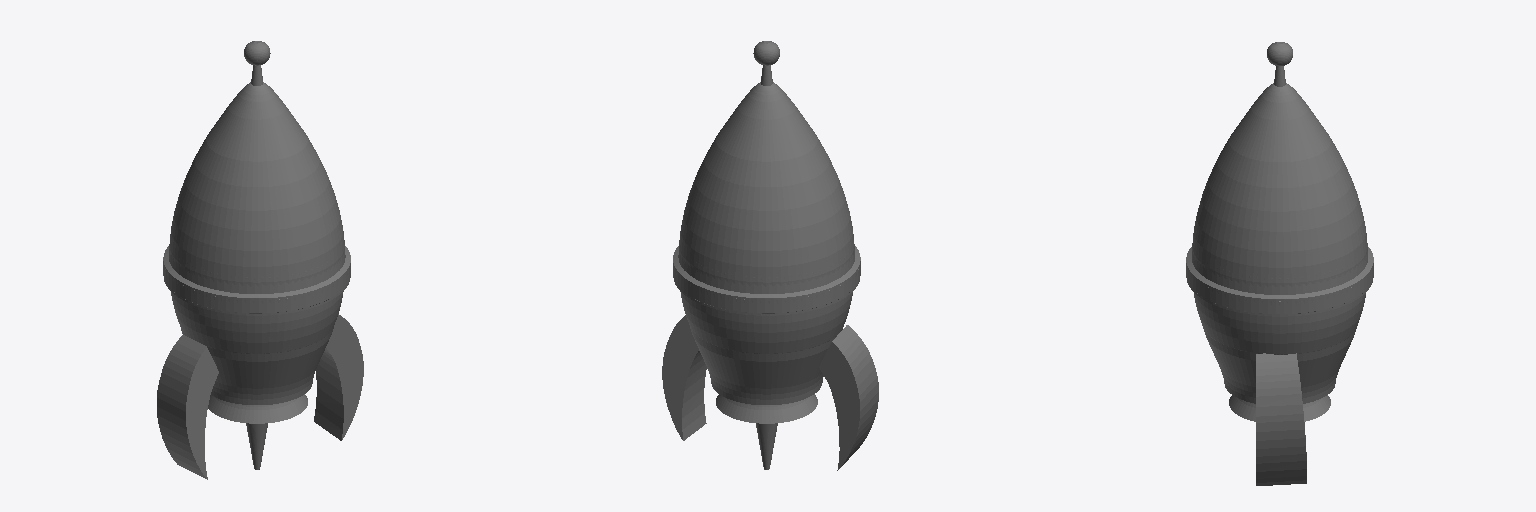
File: rocketShipAlpha.obj
3 views of the same model, side by side, from view 1: azimuth 30°, elevation 25°; view 2: azimuth 150°, elevation 25°; view 3: azimuth 270°, elevation 25° (orthographic).
Size of the model in its own units: 644 by 1370 by 546.